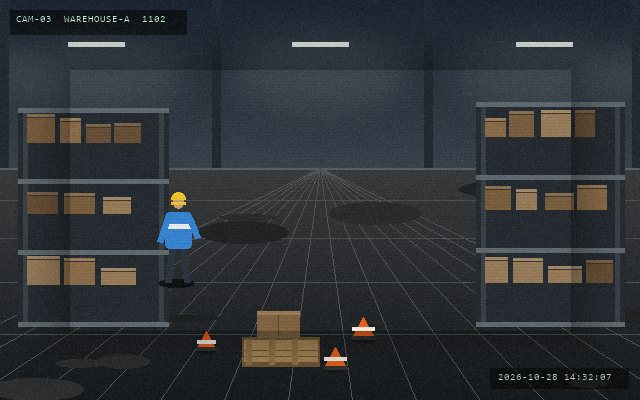cone: (350, 315, 376, 342), (322, 345, 348, 372), (195, 329, 217, 353)
pallet: (240, 335, 321, 368)
person: (157, 190, 199, 286)
shelf: (476, 102, 624, 322), (18, 108, 168, 322)
